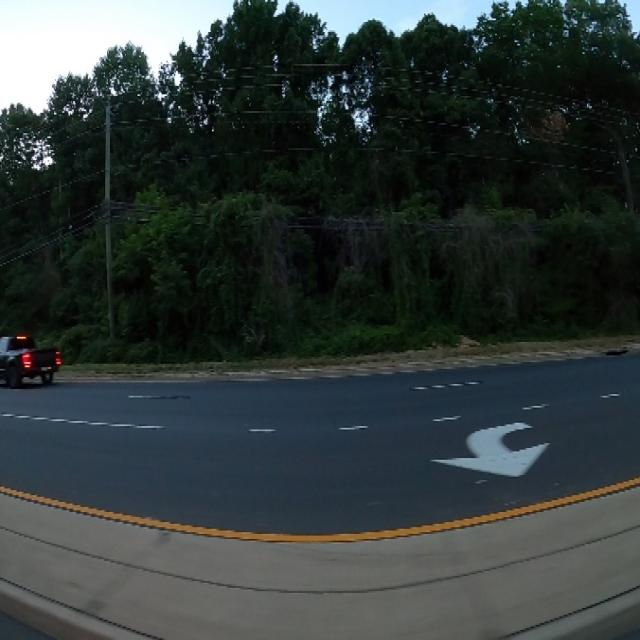cars: (0, 318, 62, 407)
